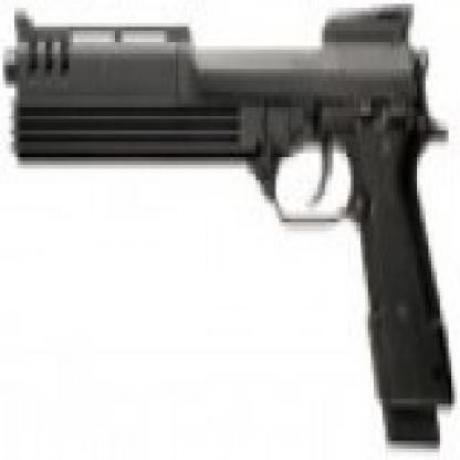weapon: (0, 0, 460, 456)
